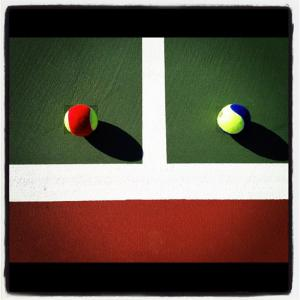TennisBall: (65, 106, 100, 136), (217, 107, 251, 135)
